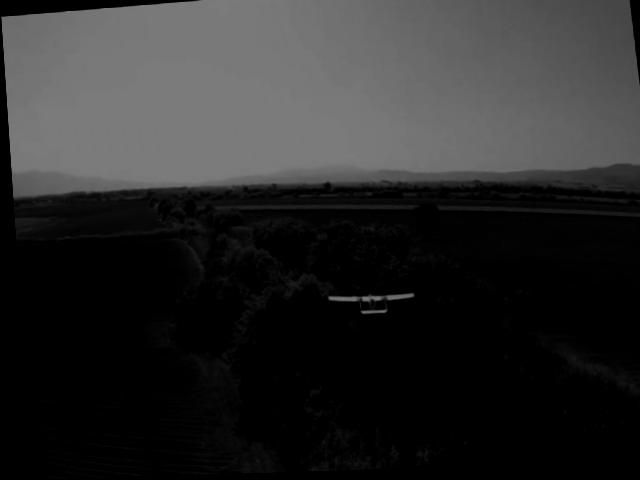hedef: (311, 276, 418, 330)
